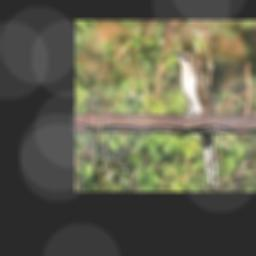Cuckoo: (172, 52, 218, 187)
